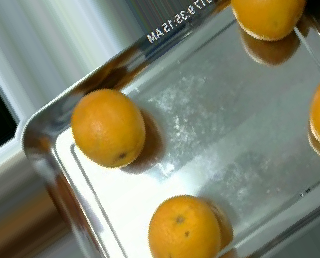Orange: (70, 88, 145, 168), (147, 195, 220, 258)
